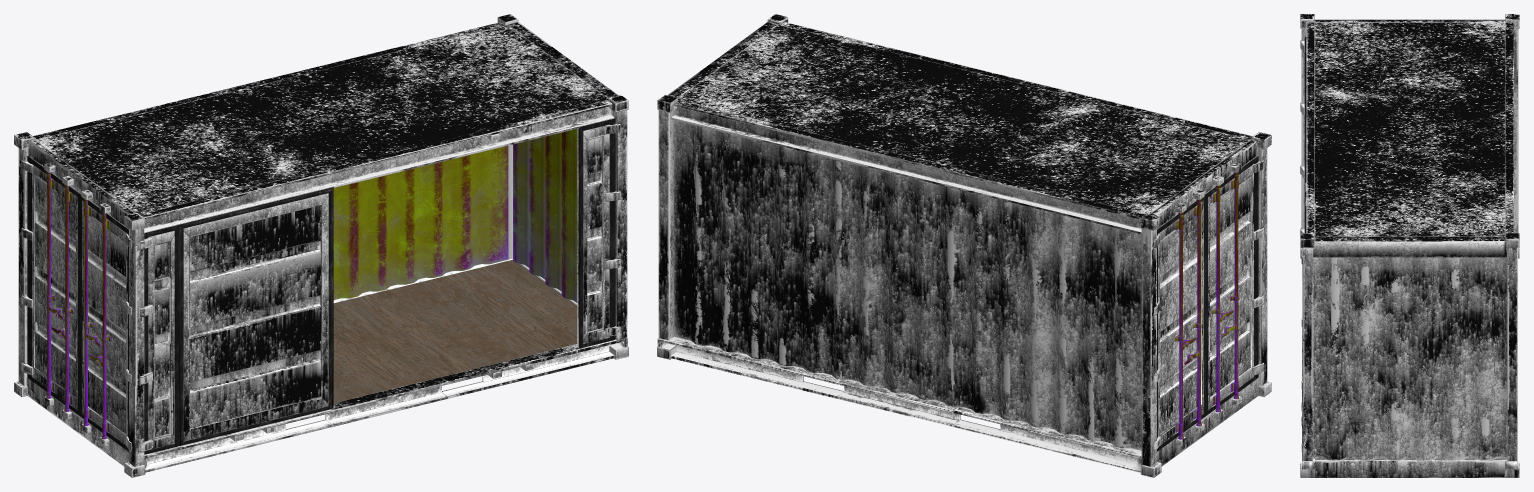
File: SM_shipping_container.fbx
3 views of the same model, side by side, from view 1: azimuth 30°, elevation 25°; view 2: azimuth 150°, elevation 25°; view 3: azimuth 270°, elevation 25° (orthographic). The views are drawn at different scales.
Visible parts, largest first — view 1: SM_shipping_container_LOD0; view 2: SM_shipping_container_LOD0; view 3: SM_shipping_container_LOD0.
Part boxes in pixels (x1,y1,x2,y2): SM_shipping_container_LOD0: (14,14,628,477); SM_shipping_container_LOD0: (657,14,1271,477); SM_shipping_container_LOD0: (1300,14,1519,477).
Size of the model in its own units: 617 by 254 by 305.
